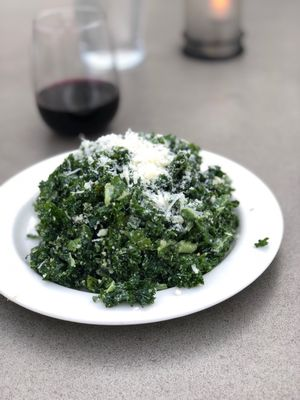curry: (27, 130, 240, 308)
pizza: (31, 0, 120, 139)
